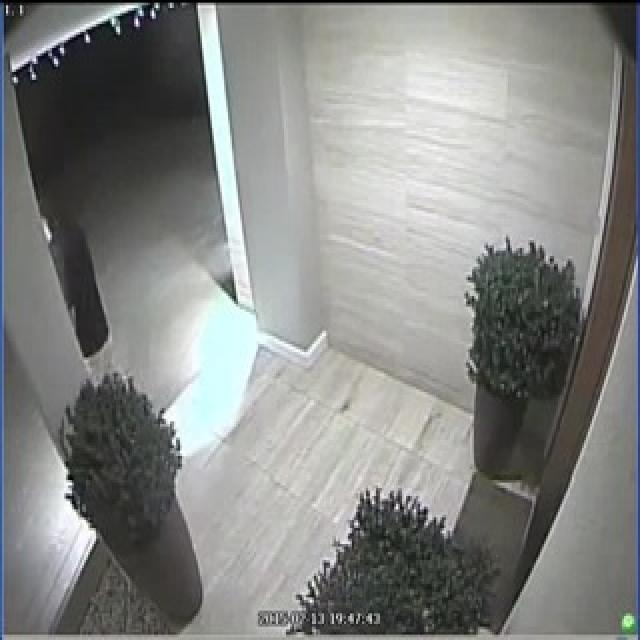thief: (32, 212, 125, 387)
